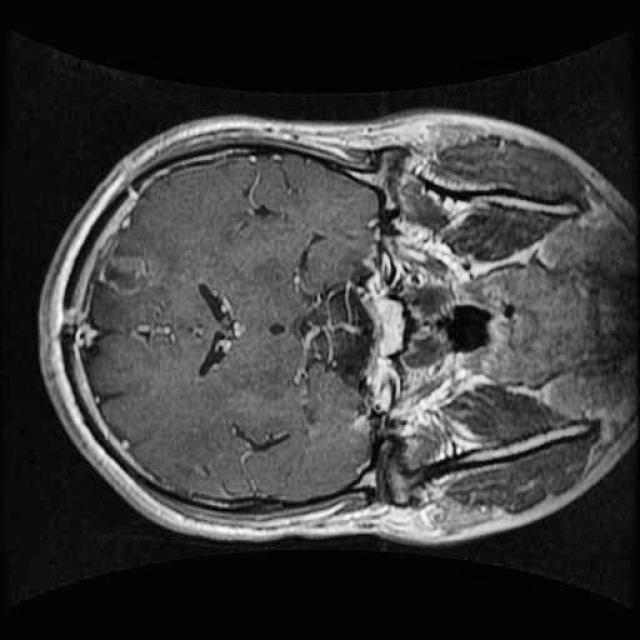Tumor: (90, 236, 166, 306)
